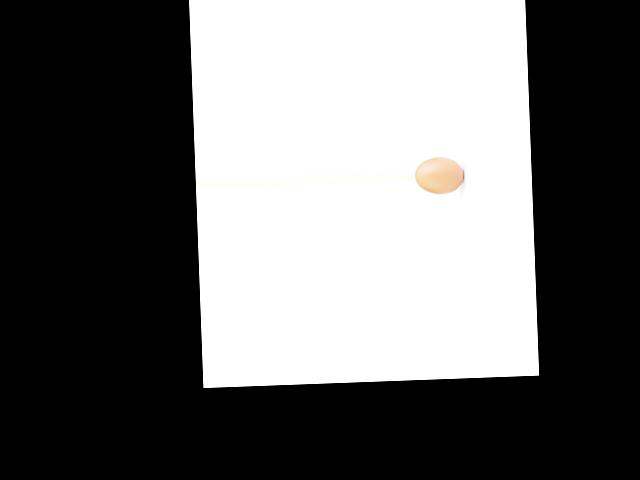egg: (414, 157, 464, 194)
